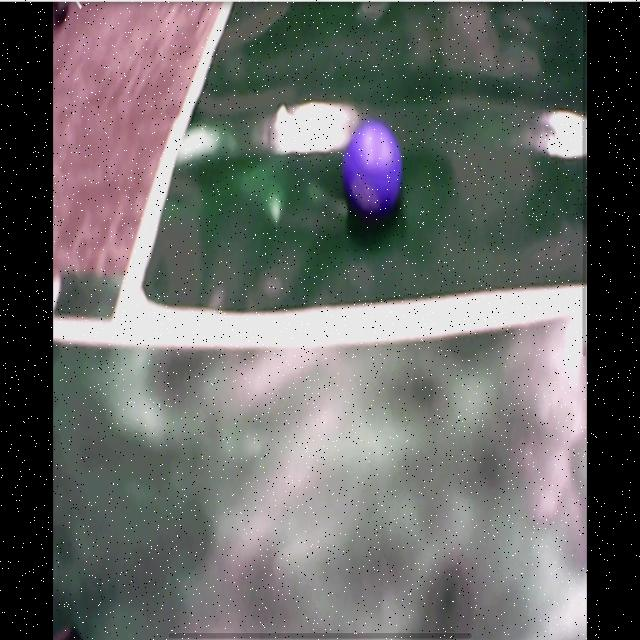ball: (342, 122, 404, 215)
